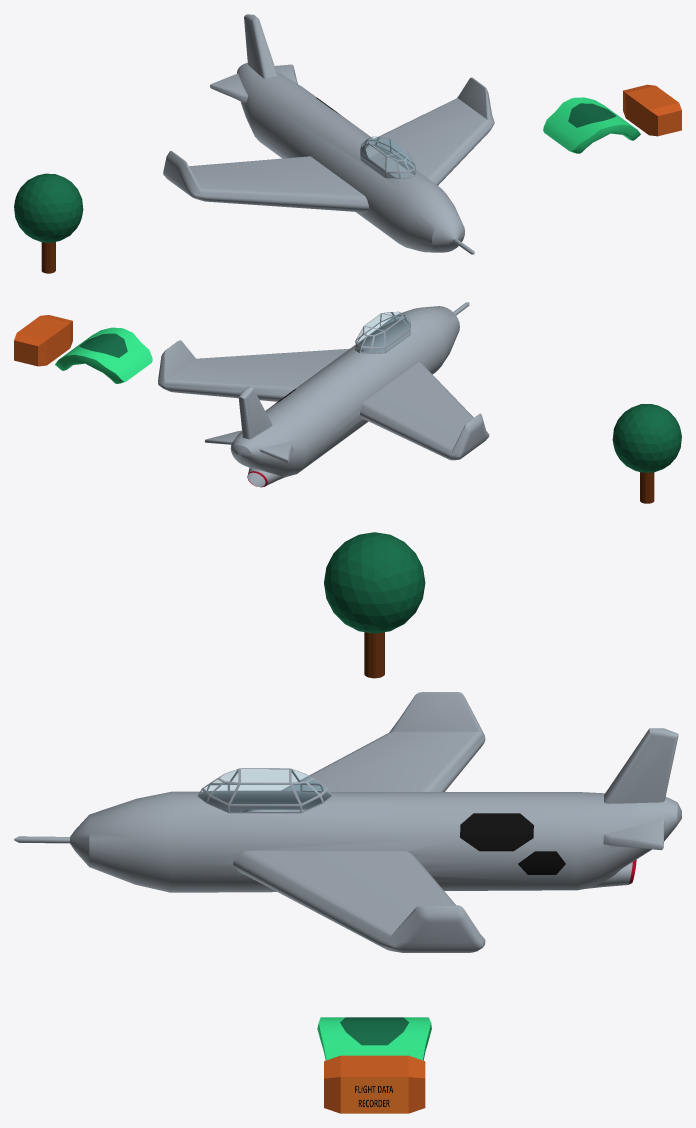
The picture shows the model from 3 angles, top to bottom: view 1: azimuth 30°, elevation 25°; view 2: azimuth 150°, elevation 25°; view 3: azimuth 270°, elevation 25°; orthographic projection. The views are drawn at different scales.
Parts seen in each view (by area): view 1: Flight, Tree, FragmentNLO, FlDatRecorder; view 2: Flight, Tree, FragmentNLO, FlDatRecorder; view 3: Flight, Tree, FlDatRecorder, FragmentNLO.
Part boxes in pixels (x1,y1,x2,y2): Flight: (163,14,494,254); Tree: (14,173,83,273); FragmentNLO: (543,97,640,153); FlDatRecorder: (623,84,681,136); Flight: (158,302,489,487); Tree: (612,404,681,503); FragmentNLO: (55,327,152,383); FlDatRecorder: (14,315,72,366); Flight: (14,692,681,952); Tree: (324,532,425,678); FlDatRecorder: (324,1055,425,1113); FragmentNLO: (317,1017,431,1060).
Size of the model in its own units: 2150 by 348 by 1315.
9 materials, 1 textured.
